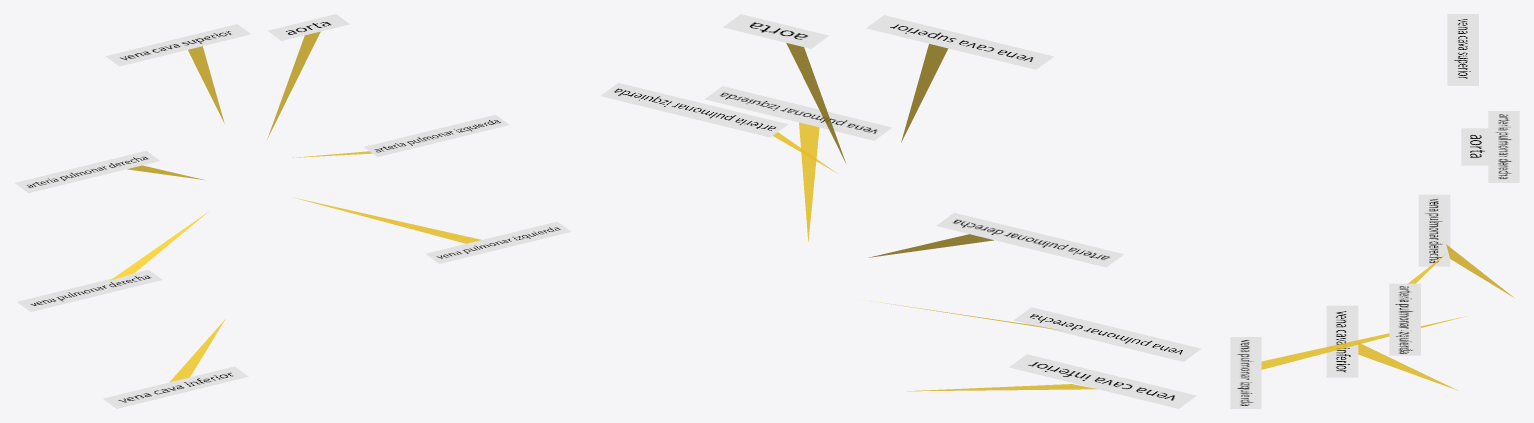
The model's file is rotulos.FBX.
3 views of the same model, side by side, from view 1: azimuth 30°, elevation 25°; view 2: azimuth 150°, elevation 25°; view 3: azimuth 270°, elevation 25° (orthographic). The views are drawn at different scales.
Parts seen in each view (by area): view 1: Plane007; view 2: Plane007; view 3: Plane007.
Boxes of the visible parts, <box> form: Plane007: <box>15,14,571,408</box>; Plane007: <box>600,14,1201,408</box>; Plane007: <box>1230,14,1519,408</box>.
Size of the model in its own units: 223 by 133 by 107.
Materials: 8 (7 with a texture image).
